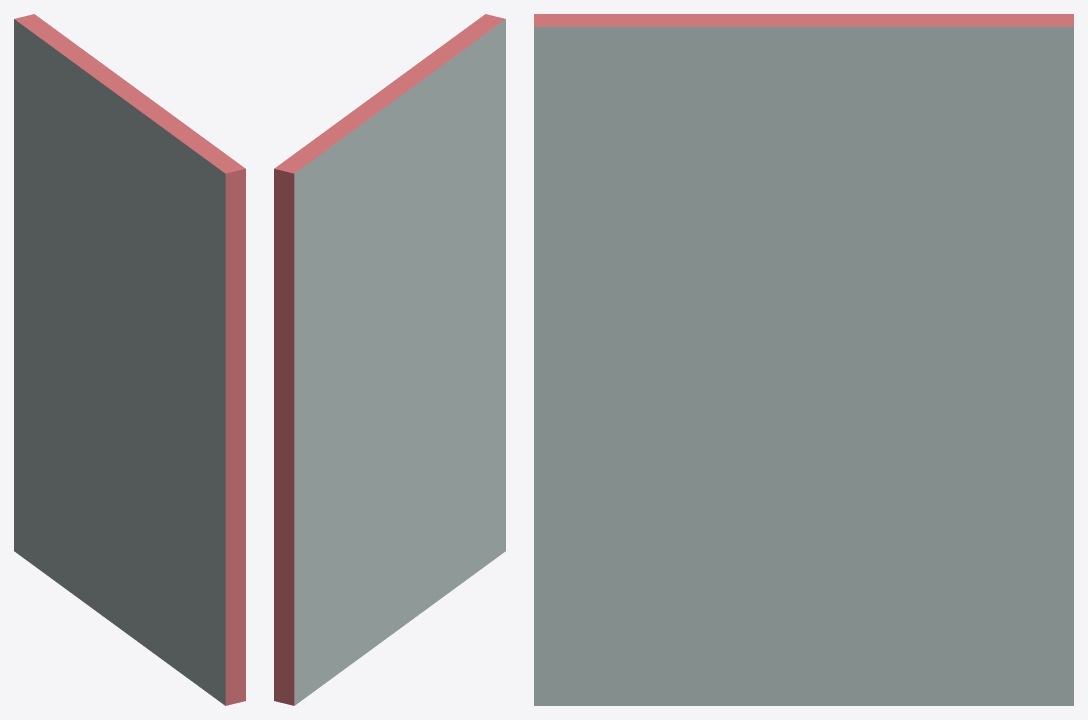
Rendered from Cutup Door Stage 1.fbx.
3 views of the same model, side by side, from view 1: azimuth 30°, elevation 25°; view 2: azimuth 150°, elevation 25°; view 3: azimuth 270°, elevation 25° (orthographic). The views are drawn at different scales.
Visible parts, largest first — view 1: polySurface539; view 2: polySurface539; view 3: polySurface539.
Boxes of the visible parts, box(x1,y1,x2,y2) form: polySurface539: box(14, 14, 245, 705); polySurface539: box(274, 14, 505, 705); polySurface539: box(534, 14, 1073, 705).
Size of the model in its own units: 1 by 25 by 18.
